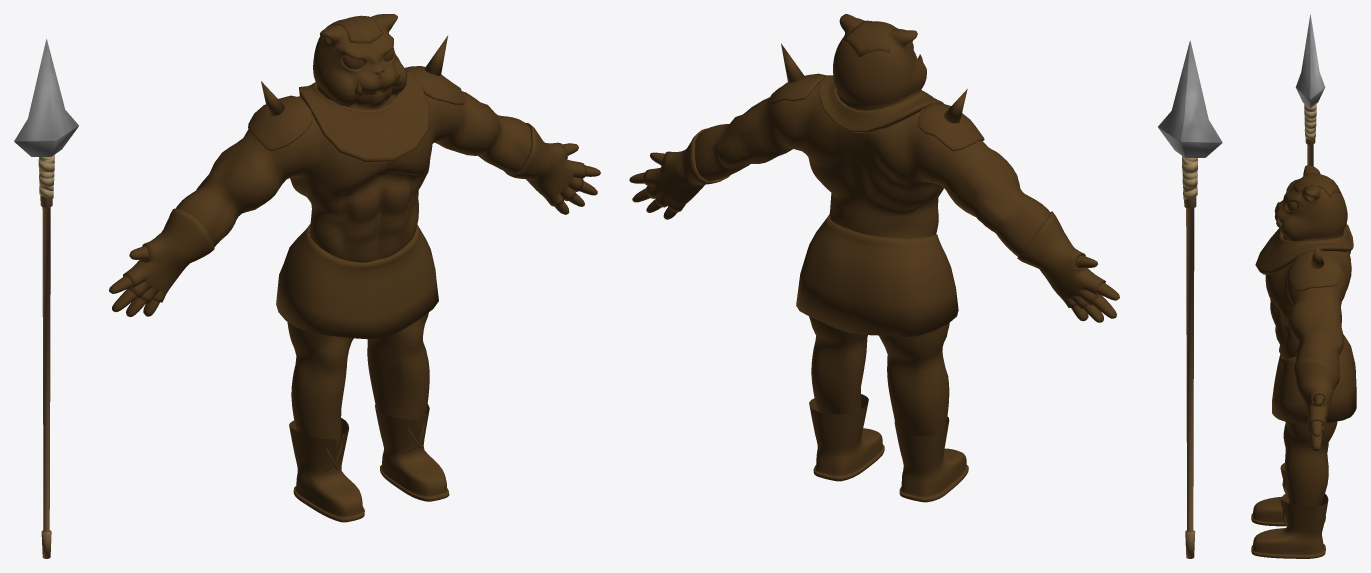
Rendered from Moblin_Model.fbx.
3 views of the same model, side by side, from view 1: azimuth 30°, elevation 25°; view 2: azimuth 150°, elevation 25°; view 3: azimuth 270°, elevation 25° (orthographic). The views are drawn at different scales.
Visible parts, largest first — view 1: Moblin, Cylinder; view 2: Moblin, Cylinder; view 3: Moblin, Cylinder.
Boxes of the visible parts, left/top/right/bottom form: Moblin: left=109, top=14, right=600, bottom=522; Cylinder: left=14, top=39, right=78, bottom=558; Moblin: left=629, top=14, right=1119, bottom=502; Cylinder: left=1158, top=40, right=1222, bottom=558; Moblin: left=1251, top=165, right=1356, bottom=558; Cylinder: left=1295, top=14, right=1325, bottom=166.
Size of the model in its own units: 1663 by 1402 by 332.
